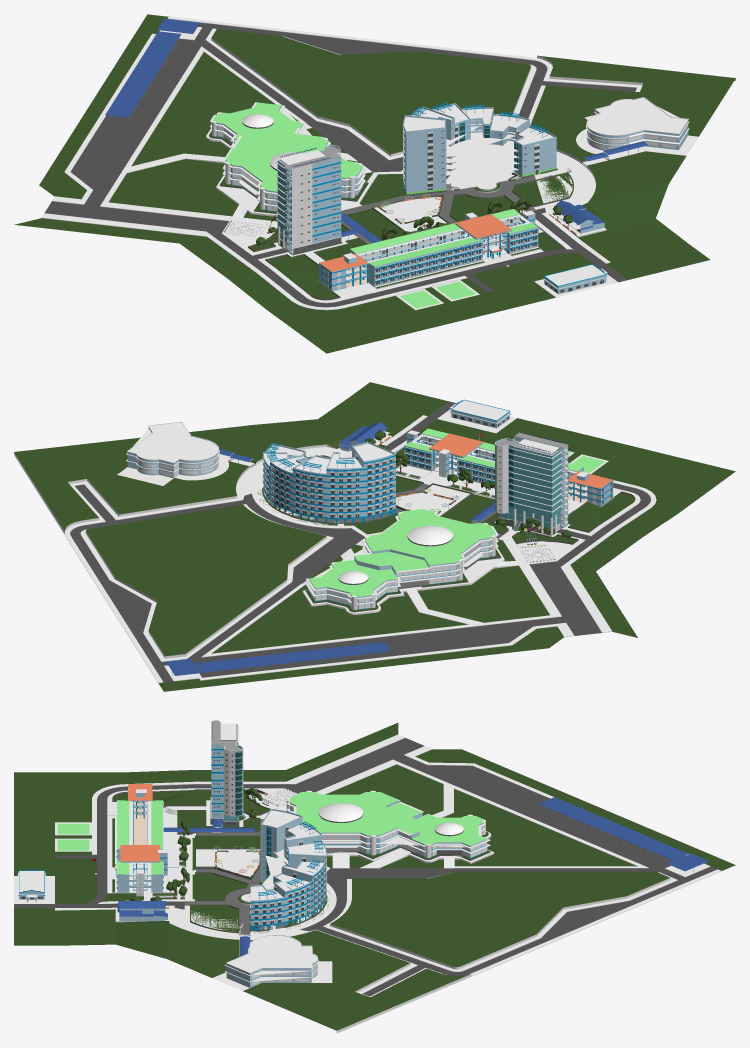
Rendered from map.obj.
3 views of the same model, one above another, from view 1: azimuth 30°, elevation 25°; view 2: azimuth 150°, elevation 25°; view 3: azimuth 270°, elevation 25° (orthographic). The views are drawn at different scales.
Visible parts, largest first — view 1: Mesh1016 Group335 Model, Mesh1 Group1 Model, Mesh904 Group334 Group333 Model, Mesh414 Group5 Model, Mesh791 Group206 Group205 Model, Mesh869 Group308 Group205 Model, Mesh874 B_floor3 Group205 Model, Mesh842 Group257 Group205 Model, Mesh872 B_floor1 Group205 Model, Mesh871 B_floor_1_1 Group205 Model, Mesh873 B_floor2 Group205 Model, Mesh461 Group149 Group140 Model (+9 smaller); view 2: Mesh1016 Group335 Model, Mesh1 Group1 Model, Mesh904 Group334 Group333 Model, Mesh414 Group5 Model, Mesh791 Group206 Group205 Model, Mesh842 Group257 Group205 Model, Mesh817 Group256 Group205 Model, Mesh868 Group283 Group205 Model, Mesh874 B_floor3 Group205 Model, Mesh872 B_floor1 Group205 Model, Mesh873 B_floor2 Group205 Model, Mesh871 B_floor_1_1 Group205 Model (+8 smaller); view 3: Mesh1016 Group335 Model, Mesh1 Group1 Model, Mesh904 Group334 Group333 Model, Mesh791 Group206 Group205 Model, Mesh414 Group5 Model, Mesh949 Group337 Group335 Model, Mesh842 Group257 Group205 Model, Mesh868 Group283 Group205 Model, Mesh817 Group256 Group205 Model, Mesh22 Group2 Model, Mesh461 Group149 Group140 Model, Mesh906 NPV_floor2 Group333 Model (+7 smaller).
Boxes of the visible parts, x1,y1,x2,y2 form: Mesh1016 Group335 Model: [14, 14, 735, 353]; Mesh1 Group1 Model: [210, 102, 365, 211]; Mesh904 Group334 Group333 Model: [586, 97, 688, 137]; Mesh414 Group5 Model: [277, 144, 341, 254]; Mesh791 Group206 Group205 Model: [403, 121, 556, 164]; Mesh869 Group308 Group205 Model: [403, 163, 556, 194]; Mesh874 B_floor3 Group205 Model: [403, 130, 556, 170]; Mesh842 Group257 Group205 Model: [403, 110, 529, 158]; Mesh872 B_floor1 Group205 Model: [403, 139, 556, 176]; Mesh871 B_floor_1_1 Group205 Model: [403, 157, 556, 189]; Mesh873 B_floor2 Group205 Model: [403, 151, 556, 183]; Mesh461 Group149 Group140 Model: [455, 214, 512, 245]; Mesh1016 Group335 Model: [14, 382, 735, 691]; Mesh1 Group1 Model: [305, 509, 498, 609]; Mesh904 Group334 Group333 Model: [126, 421, 218, 465]; Mesh414 Group5 Model: [495, 432, 568, 535]; Mesh791 Group206 Group205 Model: [262, 443, 395, 493]; Mesh842 Group257 Group205 Model: [263, 452, 395, 487]; Mesh817 Group256 Group205 Model: [270, 454, 395, 481]; Mesh868 Group283 Group205 Model: [292, 453, 395, 476]; Mesh874 B_floor3 Group205 Model: [262, 453, 395, 499]; Mesh872 B_floor1 Group205 Model: [262, 466, 395, 505]; Mesh873 B_floor2 Group205 Model: [262, 475, 395, 511]; Mesh871 B_floor_1_1 Group205 Model: [262, 481, 395, 517]; Mesh1016 Group335 Model: [14, 723, 735, 1033]; Mesh1 Group1 Model: [286, 790, 490, 858]; Mesh904 Group334 Group333 Model: [226, 935, 318, 975]; Mesh791 Group206 Group205 Model: [250, 849, 326, 901]; Mesh414 Group5 Model: [211, 720, 243, 826]; Mesh949 Group337 Group335 Model: [117, 901, 167, 921]; Mesh842 Group257 Group205 Model: [260, 843, 326, 892]; Mesh868 Group283 Group205 Model: [260, 830, 326, 857]; Mesh817 Group256 Group205 Model: [260, 834, 326, 876]; Mesh22 Group2 Model: [18, 871, 45, 902]; Mesh461 Group149 Group140 Model: [120, 845, 159, 868]; Mesh906 NPV_floor2 Group333 Model: [224, 947, 318, 981].
Bounding box in the file's own units: 14.37 × 1.82 × 14.1.
